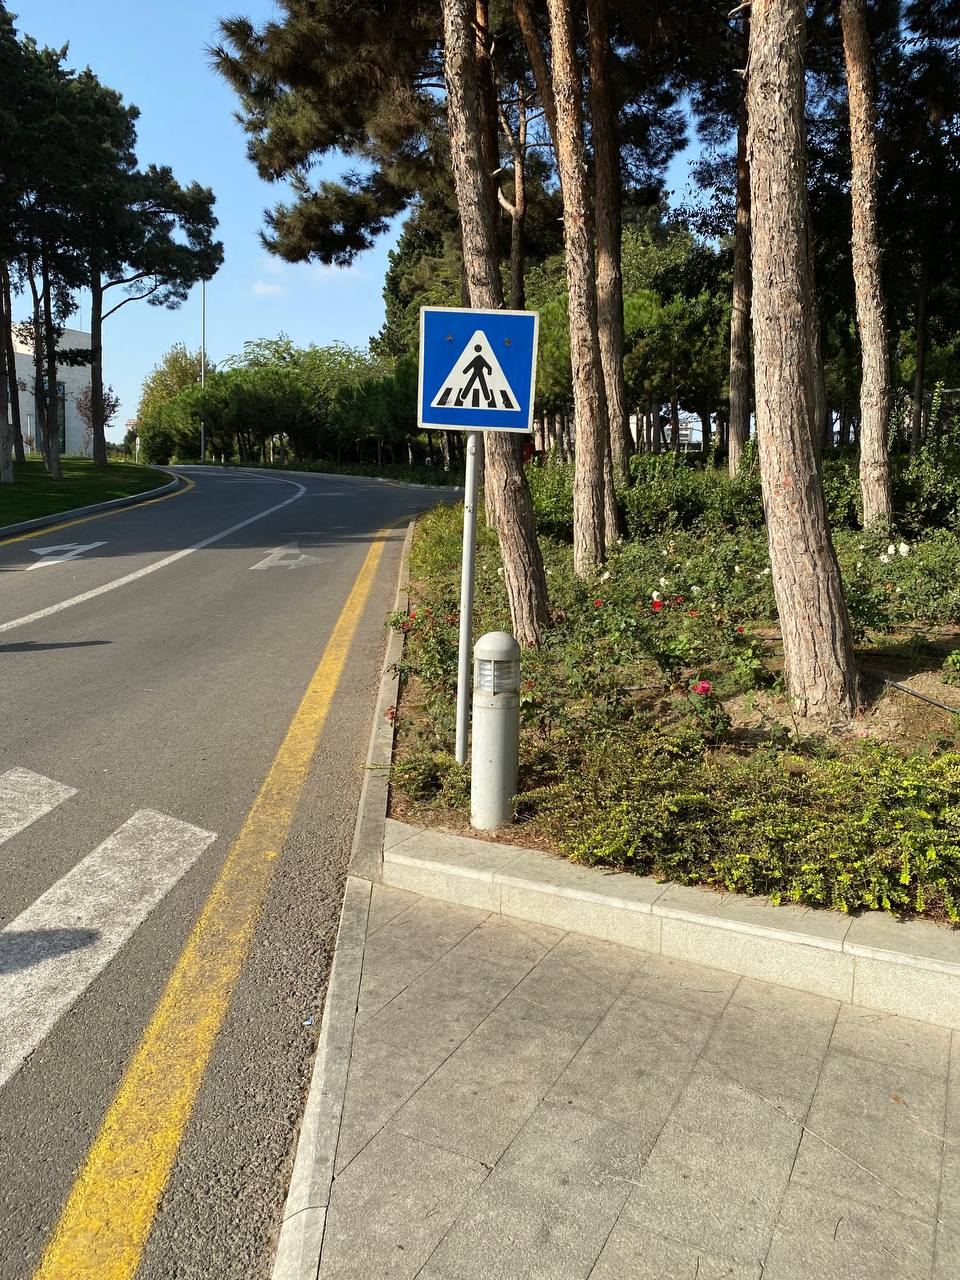Pedestrian Crossing: (418, 304, 539, 434)
